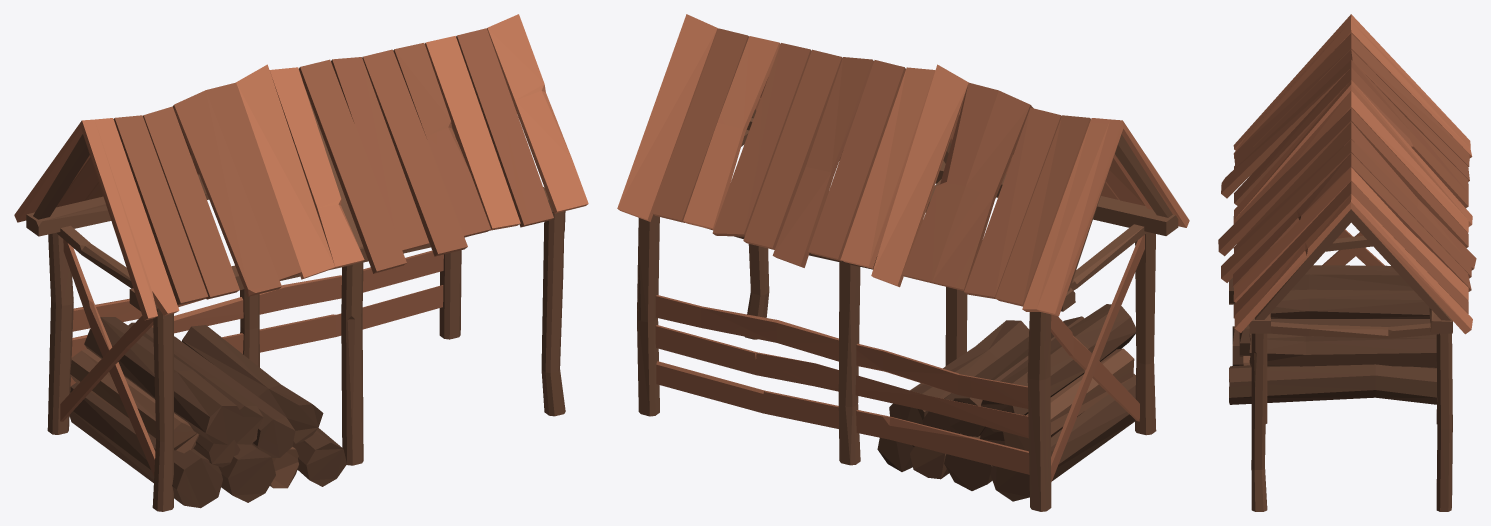
File: Barn_Wood.fbx
The picture shows the model from 3 angles, left to right: view 1: azimuth 30°, elevation 25°; view 2: azimuth 150°, elevation 25°; view 3: azimuth 270°, elevation 25°; orthographic projection. The views are drawn at different scales.
Parts seen in each view (by area): view 1: Barn_Wood; view 2: Barn_Wood; view 3: Barn_Wood.
Part boxes in pixels (bbox=[...]): Barn_Wood: bbox=[14, 14, 588, 511]; Barn_Wood: bbox=[617, 14, 1189, 511]; Barn_Wood: bbox=[1218, 14, 1476, 511].
Size of the model in its own units: 5.15 by 4.11 by 2.96.
